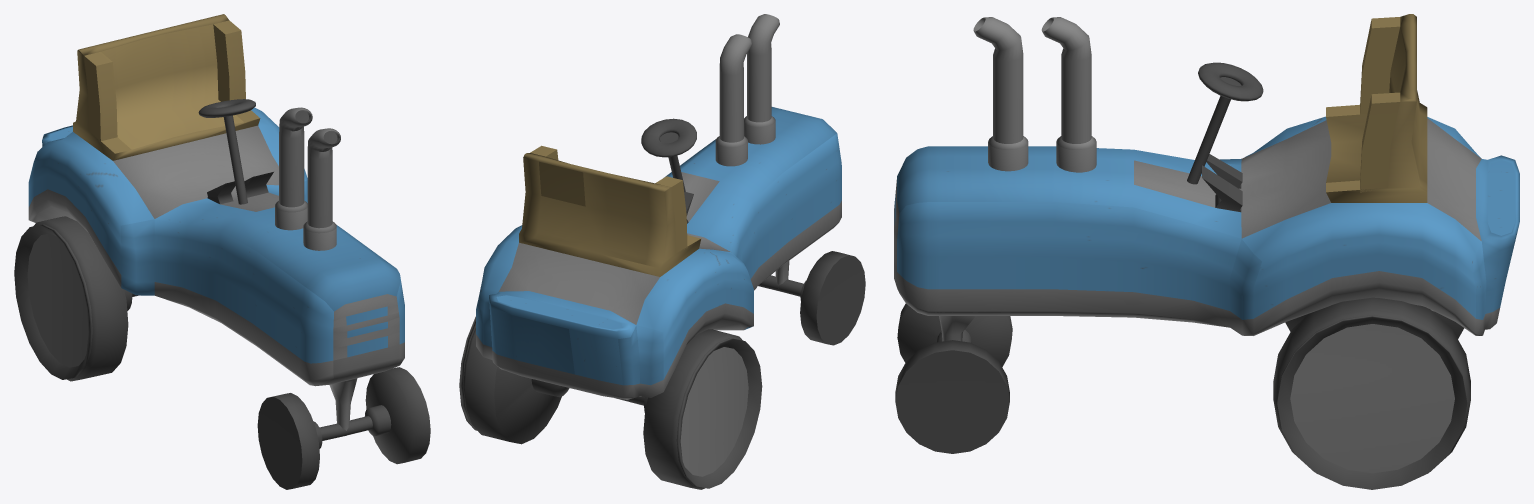
File: Tractor.fbx
The picture shows the model from 3 angles, left to right: view 1: azimuth 30°, elevation 25°; view 2: azimuth 150°, elevation 25°; view 3: azimuth 270°, elevation 25°; orthographic projection. The views are drawn at different scales.
Visible parts, largest first — view 1: polySurface16; view 2: polySurface16; view 3: polySurface16.
Boxes of the visible parts, box(x1,y1,x2,y2) form: polySurface16: box(14, 14, 430, 489); polySurface16: box(459, 14, 865, 489); polySurface16: box(894, 14, 1519, 489).
Bounding box in the file's own units: 5.39 × 7.41 × 10.36.
